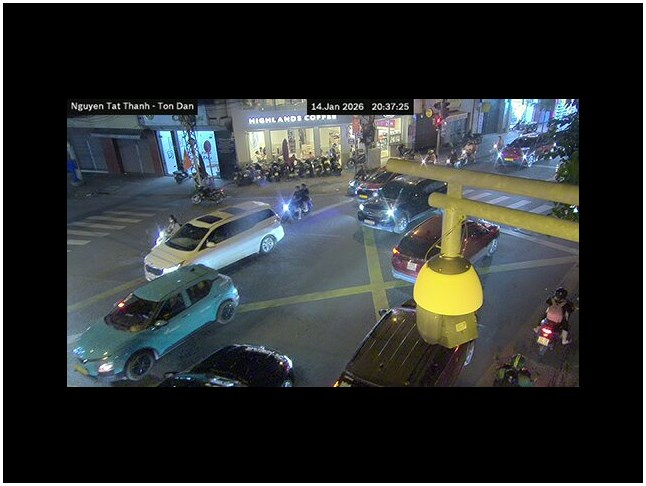car: (69, 263, 239, 383), (142, 200, 285, 282), (158, 342, 295, 387), (356, 174, 447, 233)
